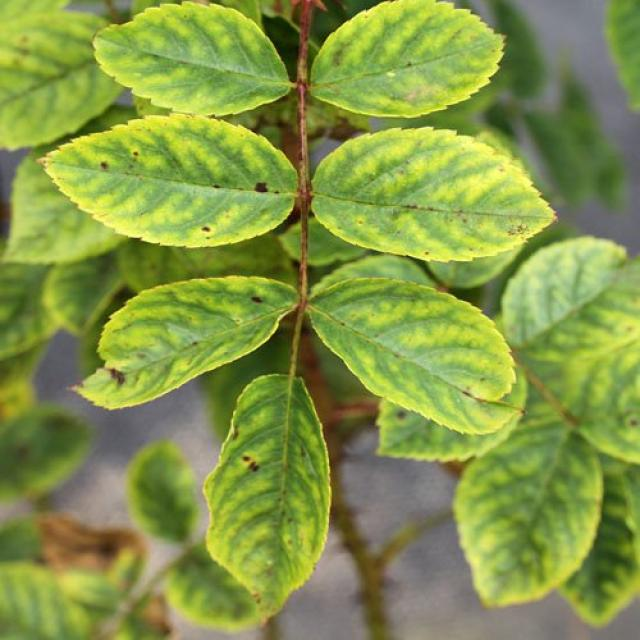Chlorosis: (58, 16, 631, 604)
